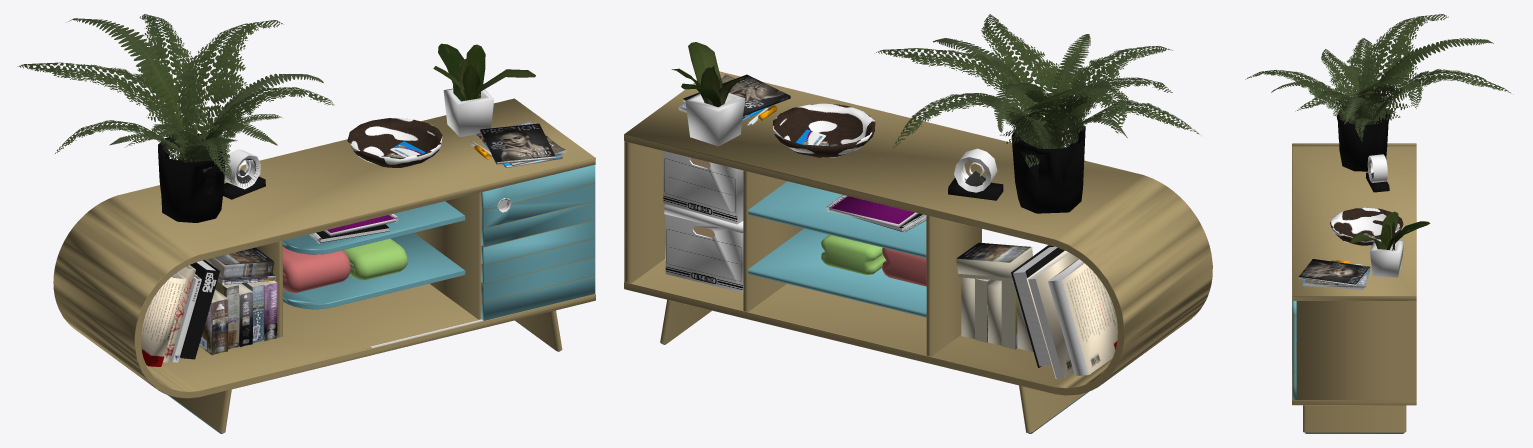
3 views of the same model, side by side, from view 1: azimuth 30°, elevation 25°; view 2: azimuth 150°, elevation 25°; view 3: azimuth 270°, elevation 25° (orthographic). The views are drawn at different scales.
Visible parts, largest first — view 1: FoyerTable, Plant_Large, TableDoor, Plant_Small, Bowl, Book_TheArt, Towel_Red, Magazine_Prestige, Towel_Green, Book_Fashion, Calendar, Book_BadRocks (+9 smaller); view 2: FoyerTable, Plant_Large, FileboxA, Book_TheArt, FileboxB, Plant_Small, Bowl, Book_Cabinet, Book_BadRocks, Book_Fashion, Calendar, Towel_Green (+7 smaller); view 3: FoyerTable, Plant_Large, Plant_Small, Bowl, Magazine_Prestige, Calendar, TableDoor, Magazine_DixSept.
Part boxes in pixels (x1,y1,x2,y2): FoyerTable: (53, 98, 595, 433); Plant_Large: (17, 14, 334, 222); TableDoor: (481, 164, 595, 320); Plant_Small: (433, 43, 535, 136); Bowl: (347, 118, 442, 167); Book_TheArt: (141, 272, 186, 366); Towel_Red: (282, 246, 350, 292); Magazine_Prestige: (480, 123, 555, 164); Towel_Green: (343, 238, 407, 280); Book_Fashion: (180, 260, 219, 359); Calendar: (223, 149, 265, 199); Book_BadRocks: (205, 247, 274, 278); FoyerTable: (624, 71, 1212, 433); Plant_Large: (876, 14, 1201, 213); FileboxA: (664, 204, 743, 292); Book_TheArt: (1048, 258, 1117, 375); FileboxB: (663, 151, 743, 224); Plant_Small: (671, 42, 745, 146); Bowl: (773, 103, 875, 157); Book_Cabinet: (1026, 250, 1078, 379); Book_BadRocks: (956, 242, 1032, 277); Book_Fashion: (1011, 245, 1064, 367); Calendar: (948, 148, 1003, 200); Towel_Green: (821, 234, 885, 274); FoyerTable: (1292, 143, 1416, 433); Plant_Large: (1245, 14, 1513, 171); Plant_Small: (1350, 211, 1430, 277); Bowl: (1330, 207, 1403, 245); Magazine_Prestige: (1298, 259, 1370, 286); Calendar: (1366, 154, 1389, 192); TableDoor: (1292, 301, 1296, 399); Magazine_DixSept: (1305, 272, 1367, 287).
Size of the model in its own units: 206 by 135 by 129.
33 materials, 22 textured.
